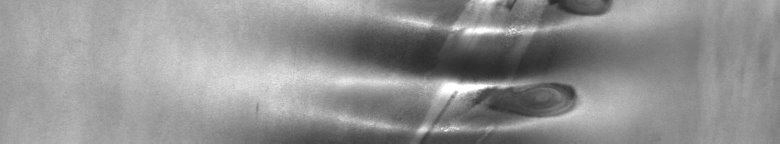ke: (338, 4, 608, 136)
